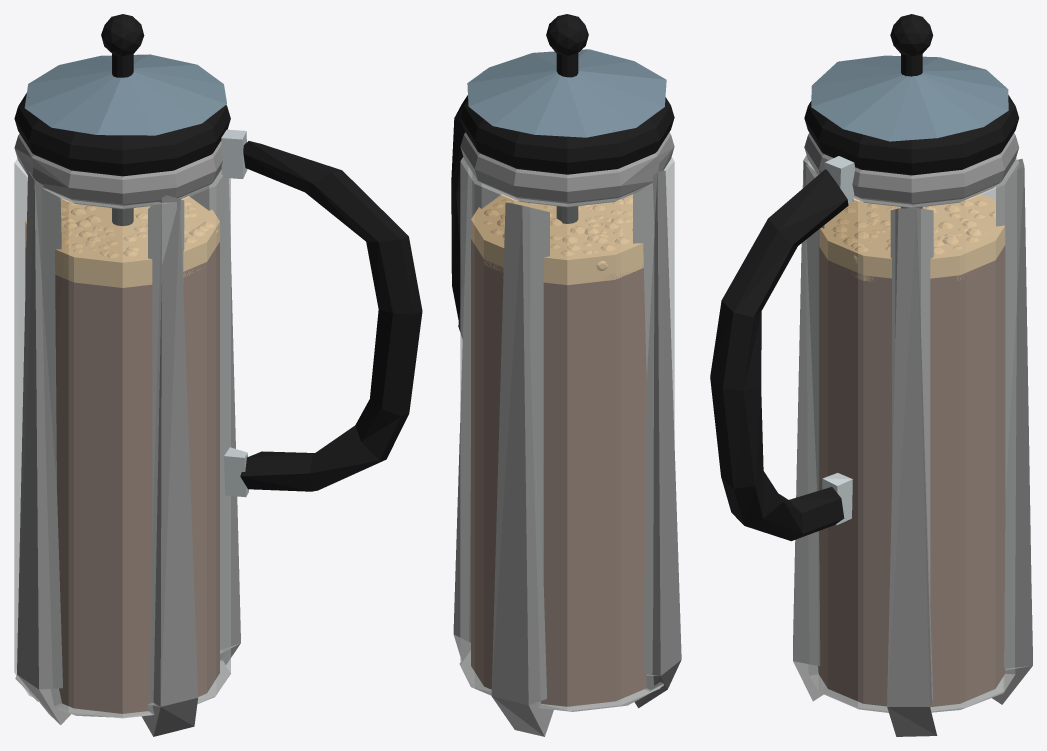
The model's file is cafetiere.glb.
3 views of the same model, side by side, from view 1: azimuth 30°, elevation 25°; view 2: azimuth 150°, elevation 25°; view 3: azimuth 270°, elevation 25° (orthographic).
Parts seen in each view (by area): view 1: Node; view 2: Node; view 3: Node.
Boxes of the visible parts, x1,y1,x2,y2 form: Node: (14,14,422,736); Node: (451,14,681,736); Node: (710,14,1032,736).
Size of the model in its own units: 0.325 by 0.7037 by 0.3003.
